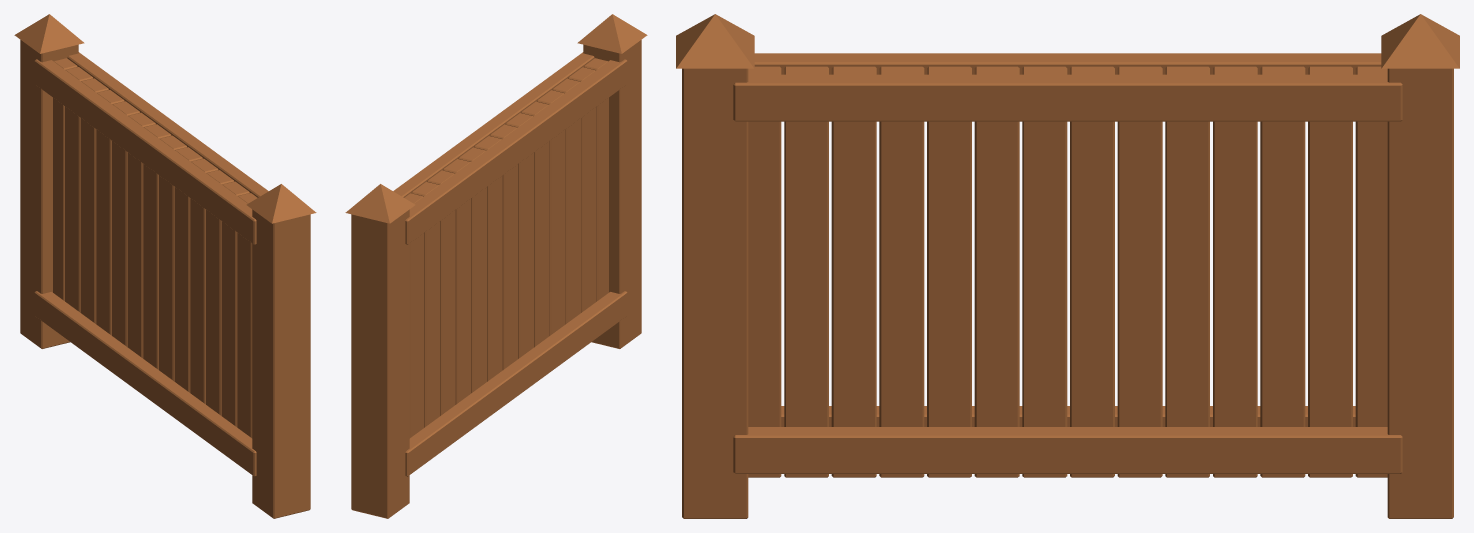
3 renders of one model, left to right at view 1: azimuth 30°, elevation 25°; view 2: azimuth 150°, elevation 25°; view 3: azimuth 270°, elevation 25°, orthographic. The views are drawn at different scales.
Visible parts, largest first — view 1: body; view 2: body; view 3: body.
Boxes of the visible parts, x1,y1,x2,y2 form: body: [14, 14, 316, 518]; body: [345, 14, 647, 518]; body: [676, 14, 1459, 518].
Bounding box in the file's own units: 0.26 × 1.8 × 2.6.
